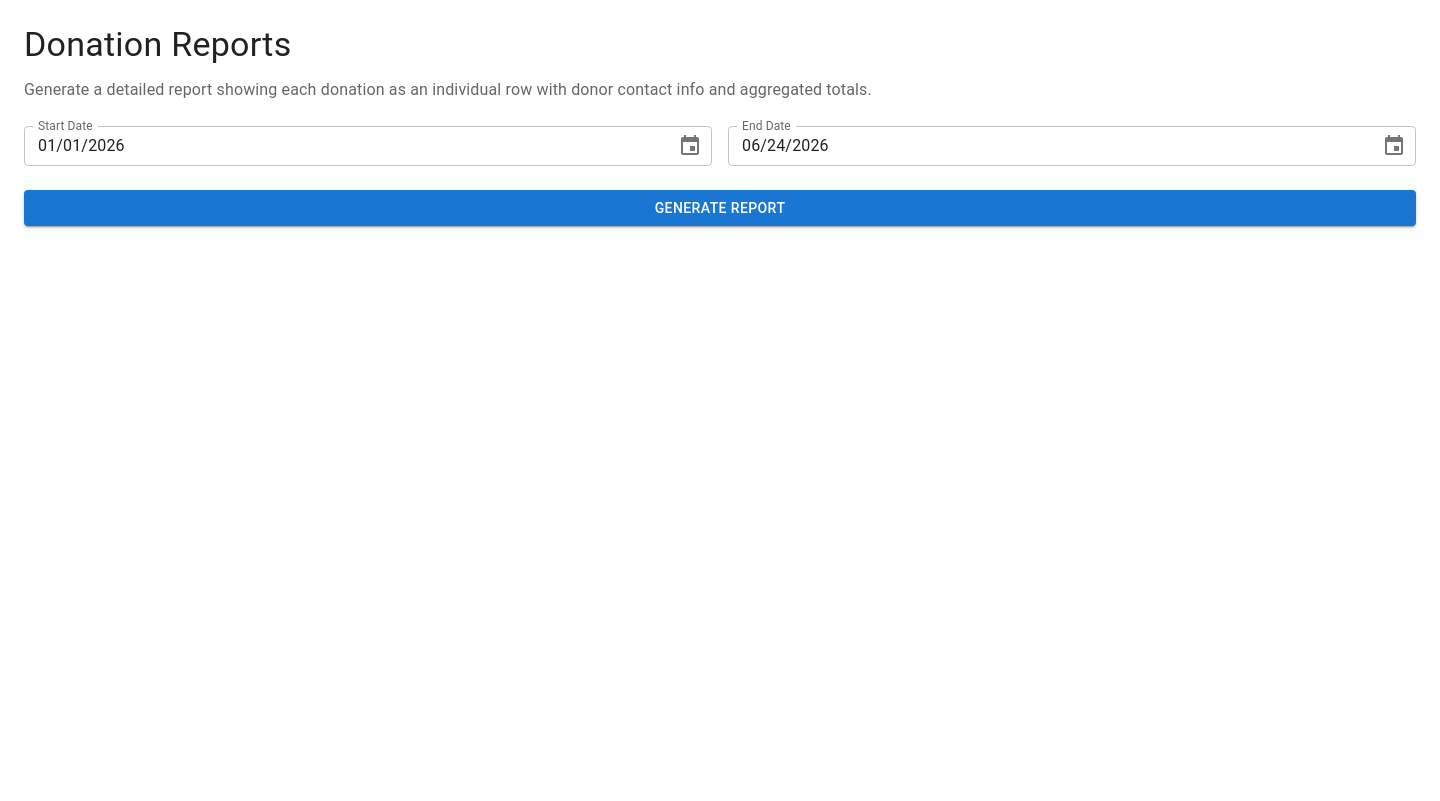
Test: ReportsPage › donor summary rows are collapsed by default
The image size is (1440, 801).
Click the button "Generate Report" at (720, 208), box [24,190,1416,226]
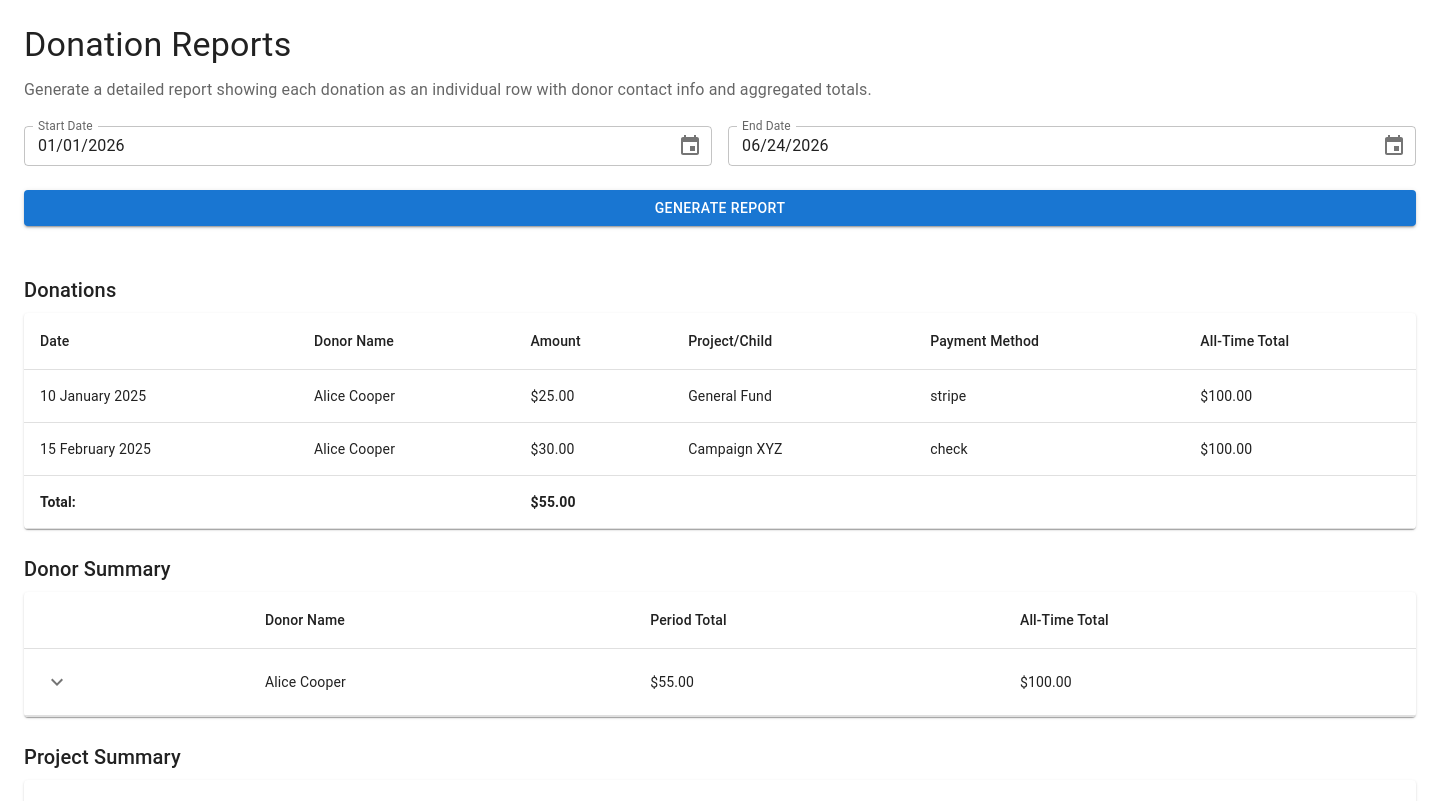
Expected: the heading "Donor Summary" is shown, [24,557,171,581]
Expected: the icon with test id "ExpandMoreIcon" is shown, [45,670,69,694]
Expected: the text "10 January 2025" is shown once, [24,370,298,423]
